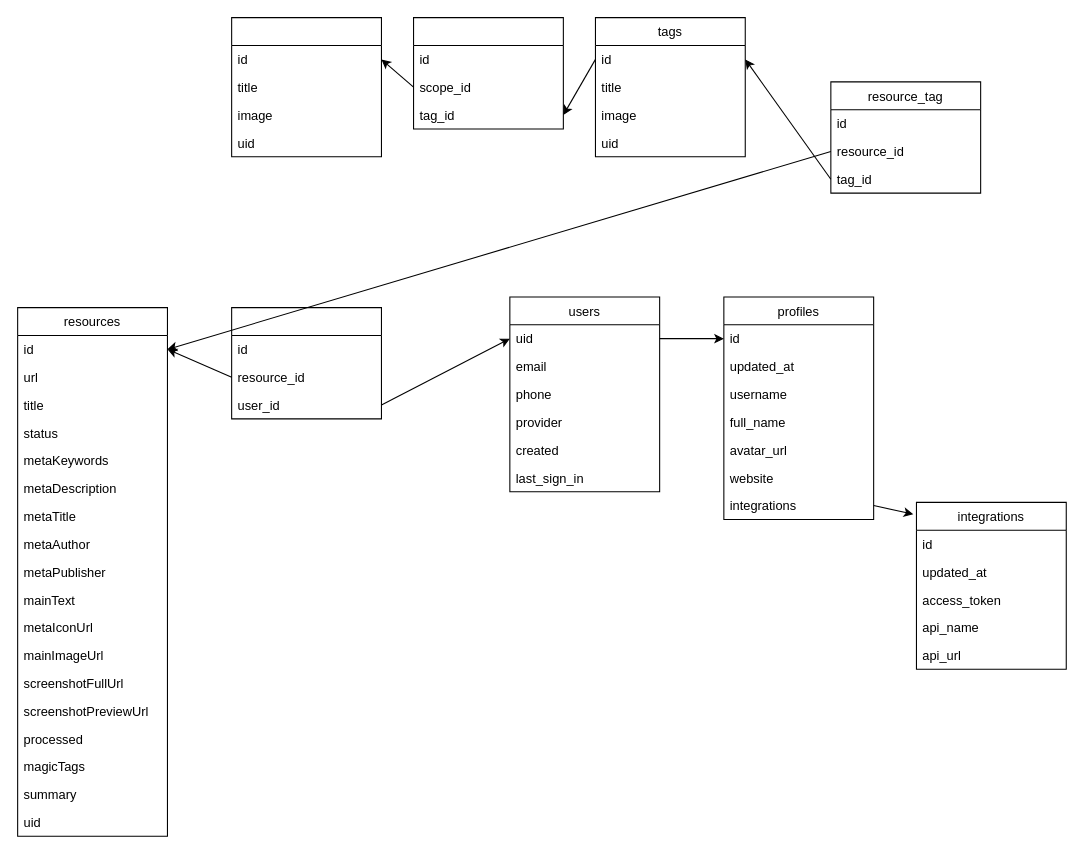
This 1084x854 diagram has some shape labels left out. Here are the shapes that lost their labels. From the top down, the box of each, then its label:
(231, 17, 381, 157): scopes
(412, 17, 563, 129): scope_tag
(231, 307, 381, 419): resource_user
